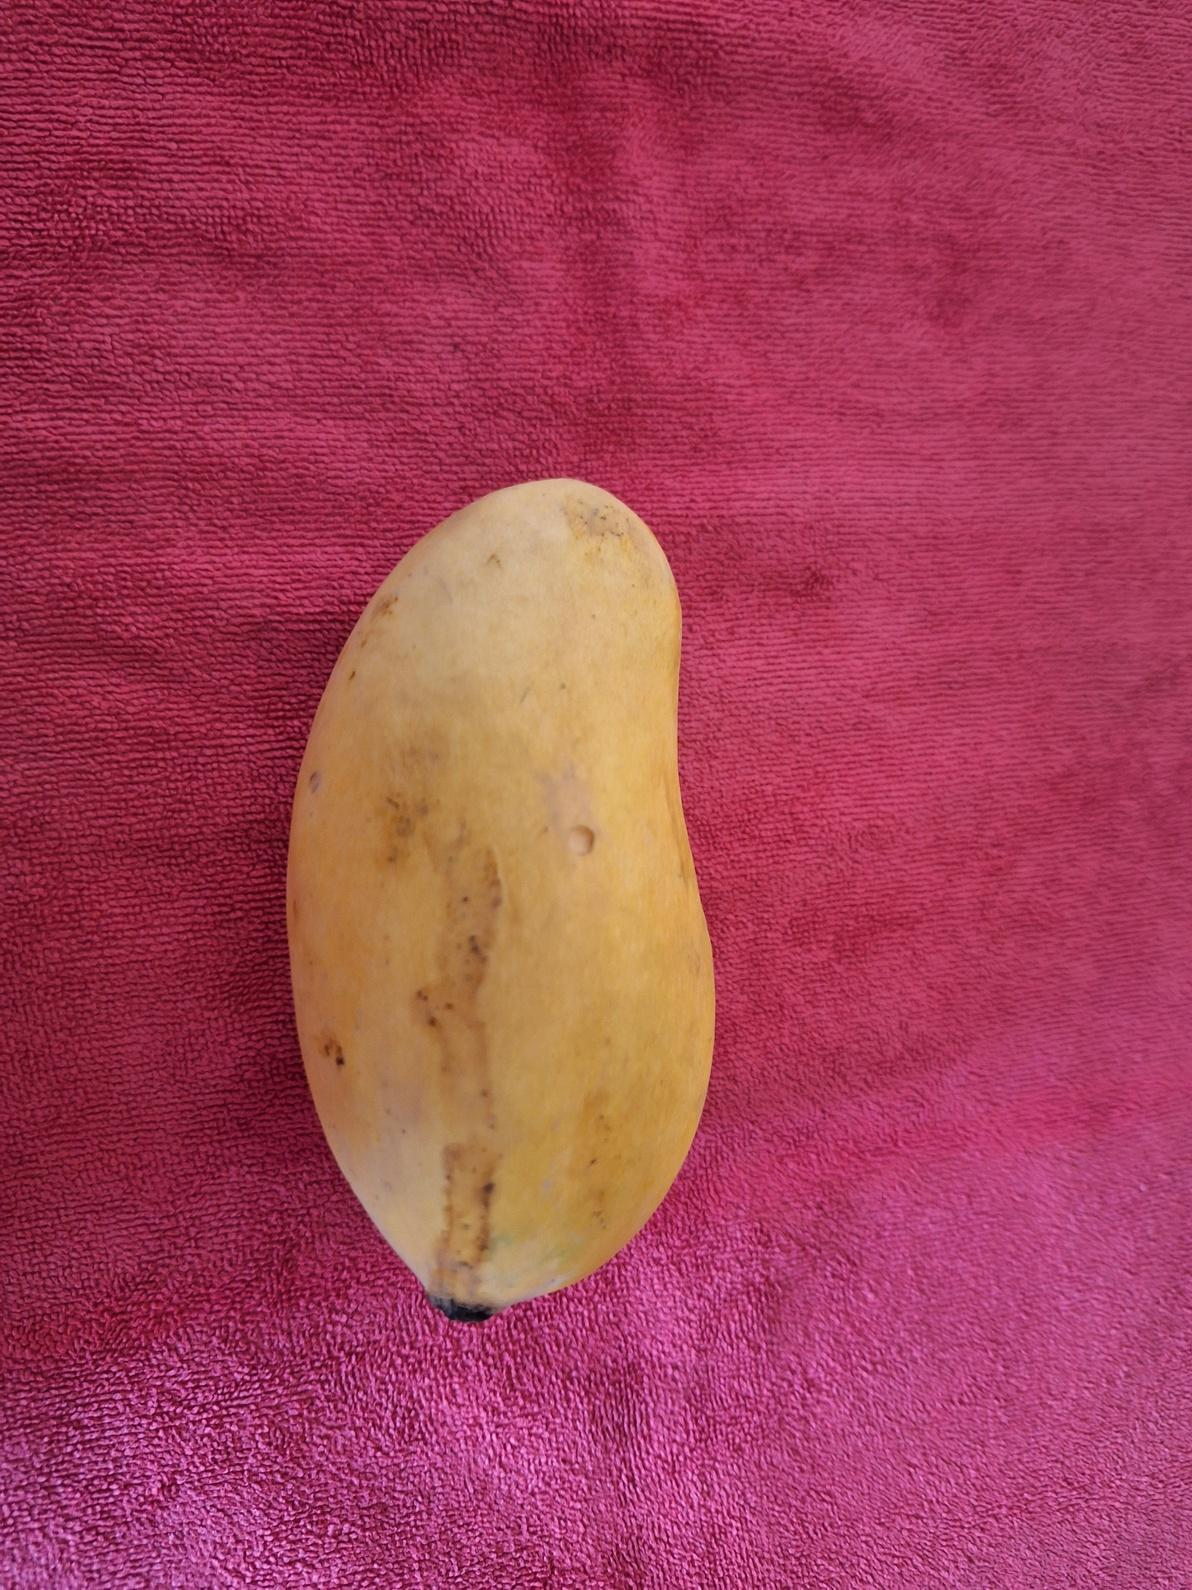mango: (284, 474, 717, 1322)
